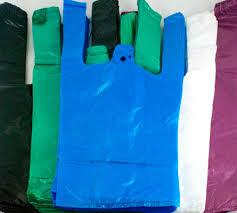Plastic bag: (0, 1, 233, 213)
